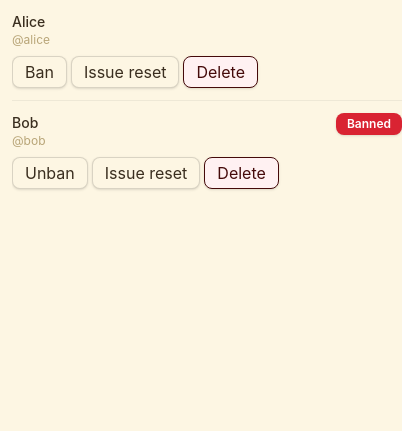
Test: FollowerManagementPanel › shows a manual copy error when reset-link clipboard write is unavailable
The width and height of the screenshot is (402, 431).
Click the 1st button "Issue reset": click(125, 72) x1=71 y1=56 x2=180 y2=88
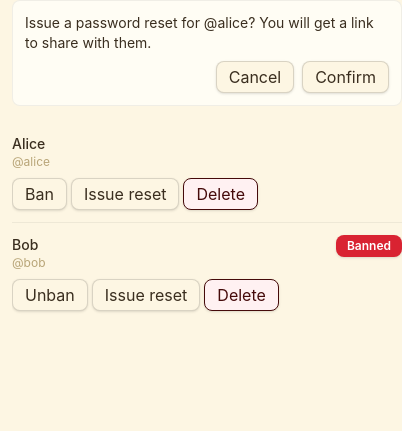
Click the button "Confirm": click(346, 77) x1=302 y1=61 x2=389 y2=93
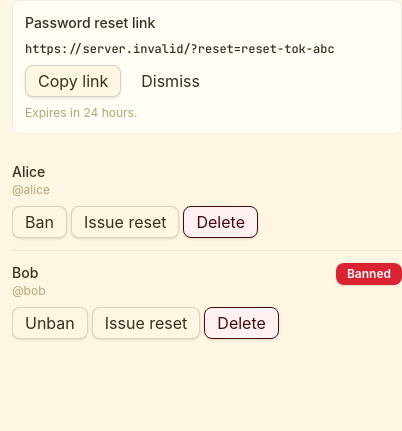
Click the button "Copy link": click(73, 81) x1=25 y1=65 x2=121 y2=97
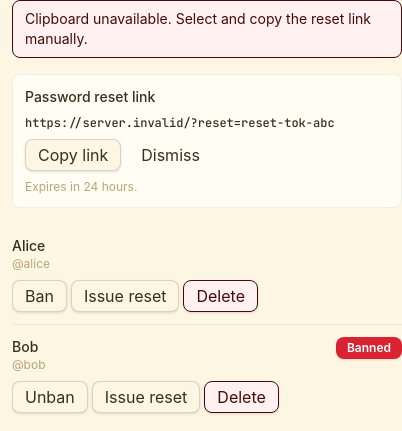
Check: the message shows "Select and copy the reset link manually", box x1=25 y1=10 x2=371 y2=47
